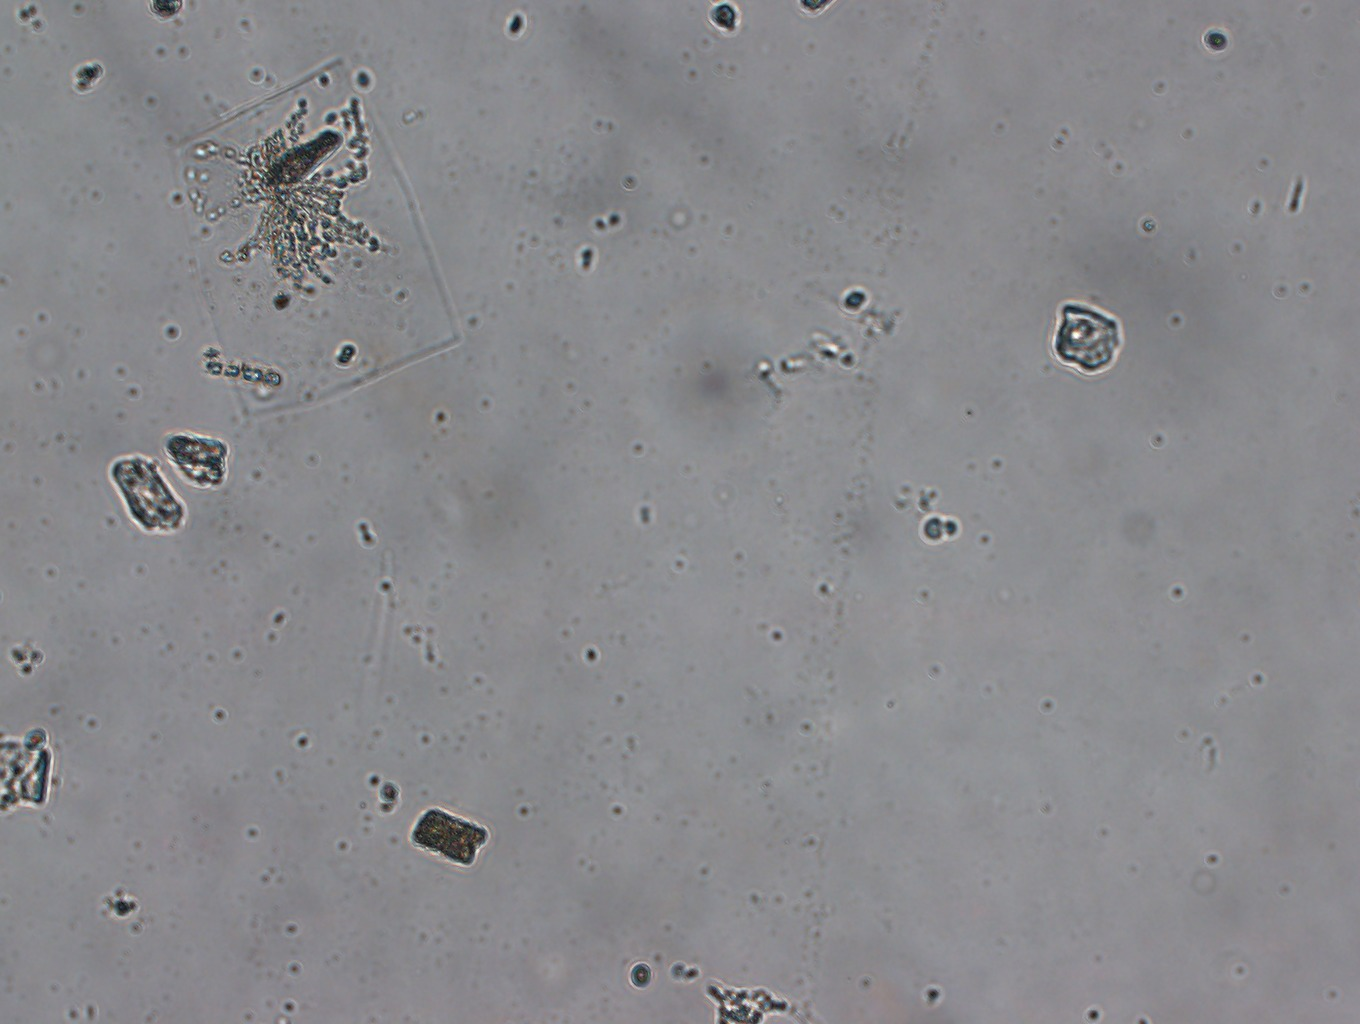helicotheca: (168, 58, 463, 419)
